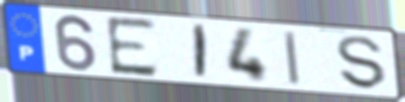4: (223, 26, 274, 86)
6: (52, 13, 99, 73)
E: (103, 15, 161, 79)
I: (282, 29, 303, 88), (193, 22, 210, 81)
S: (334, 34, 389, 92)
